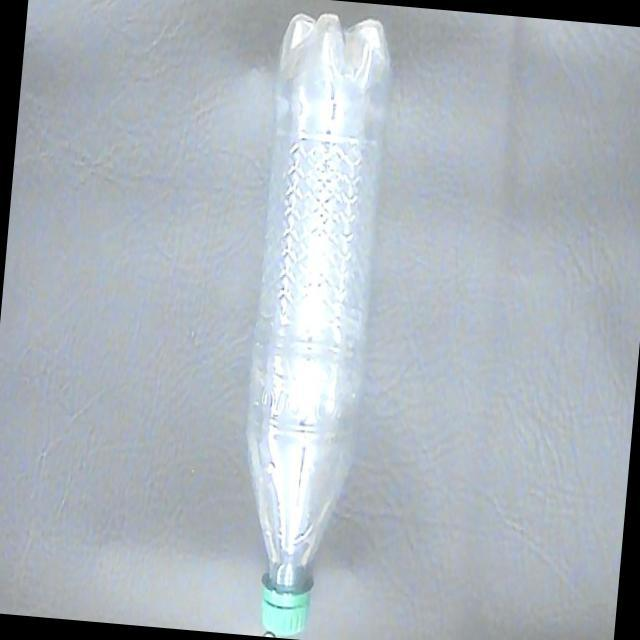good: (224, 4, 402, 640)
